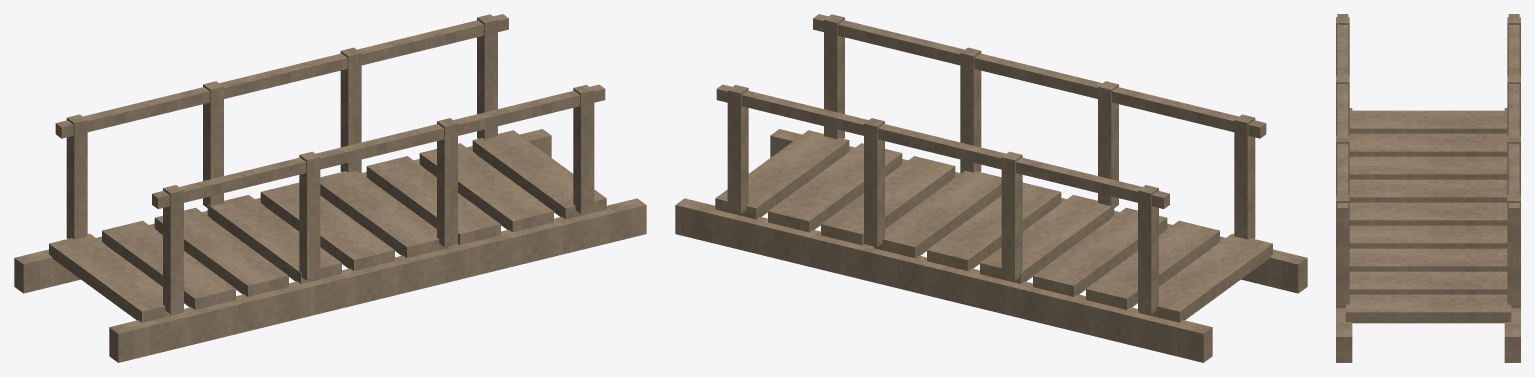
Rendered from level_blockout_camp_footbridge_module.glb.
The picture shows the model from 3 angles, left to right: view 1: azimuth 30°, elevation 25°; view 2: azimuth 150°, elevation 25°; view 3: azimuth 270°, elevation 25°; orthographic projection. The views are drawn at different scales.
Visible parts, largest first — view 1: level_blockout_camp_footbridge_module; view 2: level_blockout_camp_footbridge_module; view 3: level_blockout_camp_footbridge_module.
Boxes of the visible parts, left/top/right/bottom form: level_blockout_camp_footbridge_module: left=14, top=14, right=646, bottom=362; level_blockout_camp_footbridge_module: left=675, top=14, right=1307, bottom=362; level_blockout_camp_footbridge_module: left=1336, top=14, right=1520, bottom=362.
Bounding box in the file's own units: 3.99 × 1.13 × 1.36.
1 material, 1 textured.
